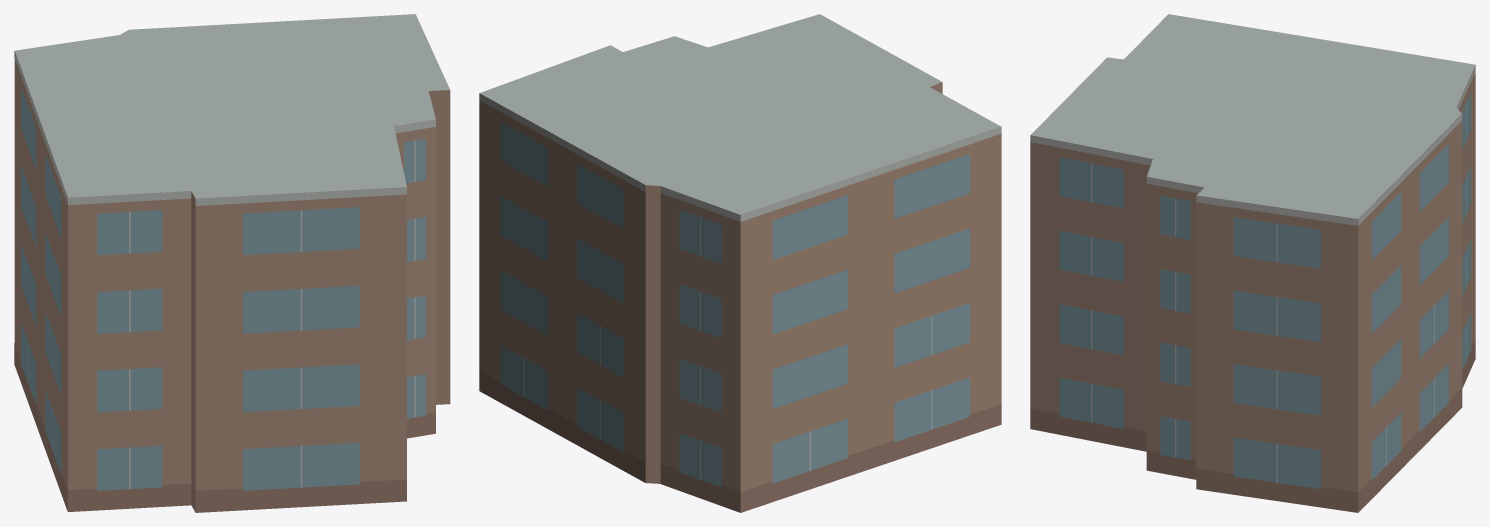
File: survey-upis-32677154.glb
3 views of the same model, side by side, from view 1: azimuth 30°, elevation 25°; view 2: azimuth 150°, elevation 25°; view 3: azimuth 270°, elevation 25° (orthographic). The views are drawn at different scales.
Visible parts, largest first — view 1: survey-upis-32677154.tmp; view 2: survey-upis-32677154.tmp; view 3: survey-upis-32677154.tmp.
Part boxes in pixels (box(x1,y1,x2,y2)): survey-upis-32677154.tmp: box(14, 14, 450, 512); survey-upis-32677154.tmp: box(479, 14, 1001, 512); survey-upis-32677154.tmp: box(1030, 14, 1475, 512).
Bounding box in the file's own units: 15.57 × 10.4 × 14.29.
